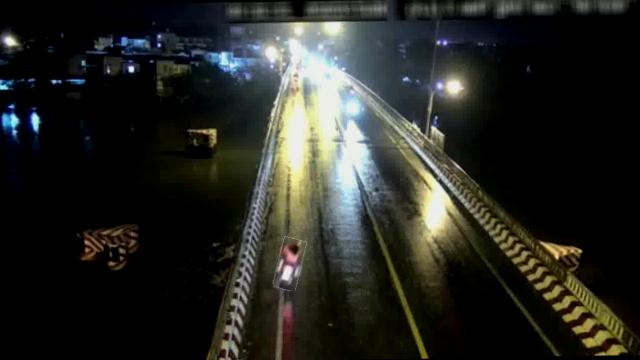Bike: (274, 237, 304, 290)
